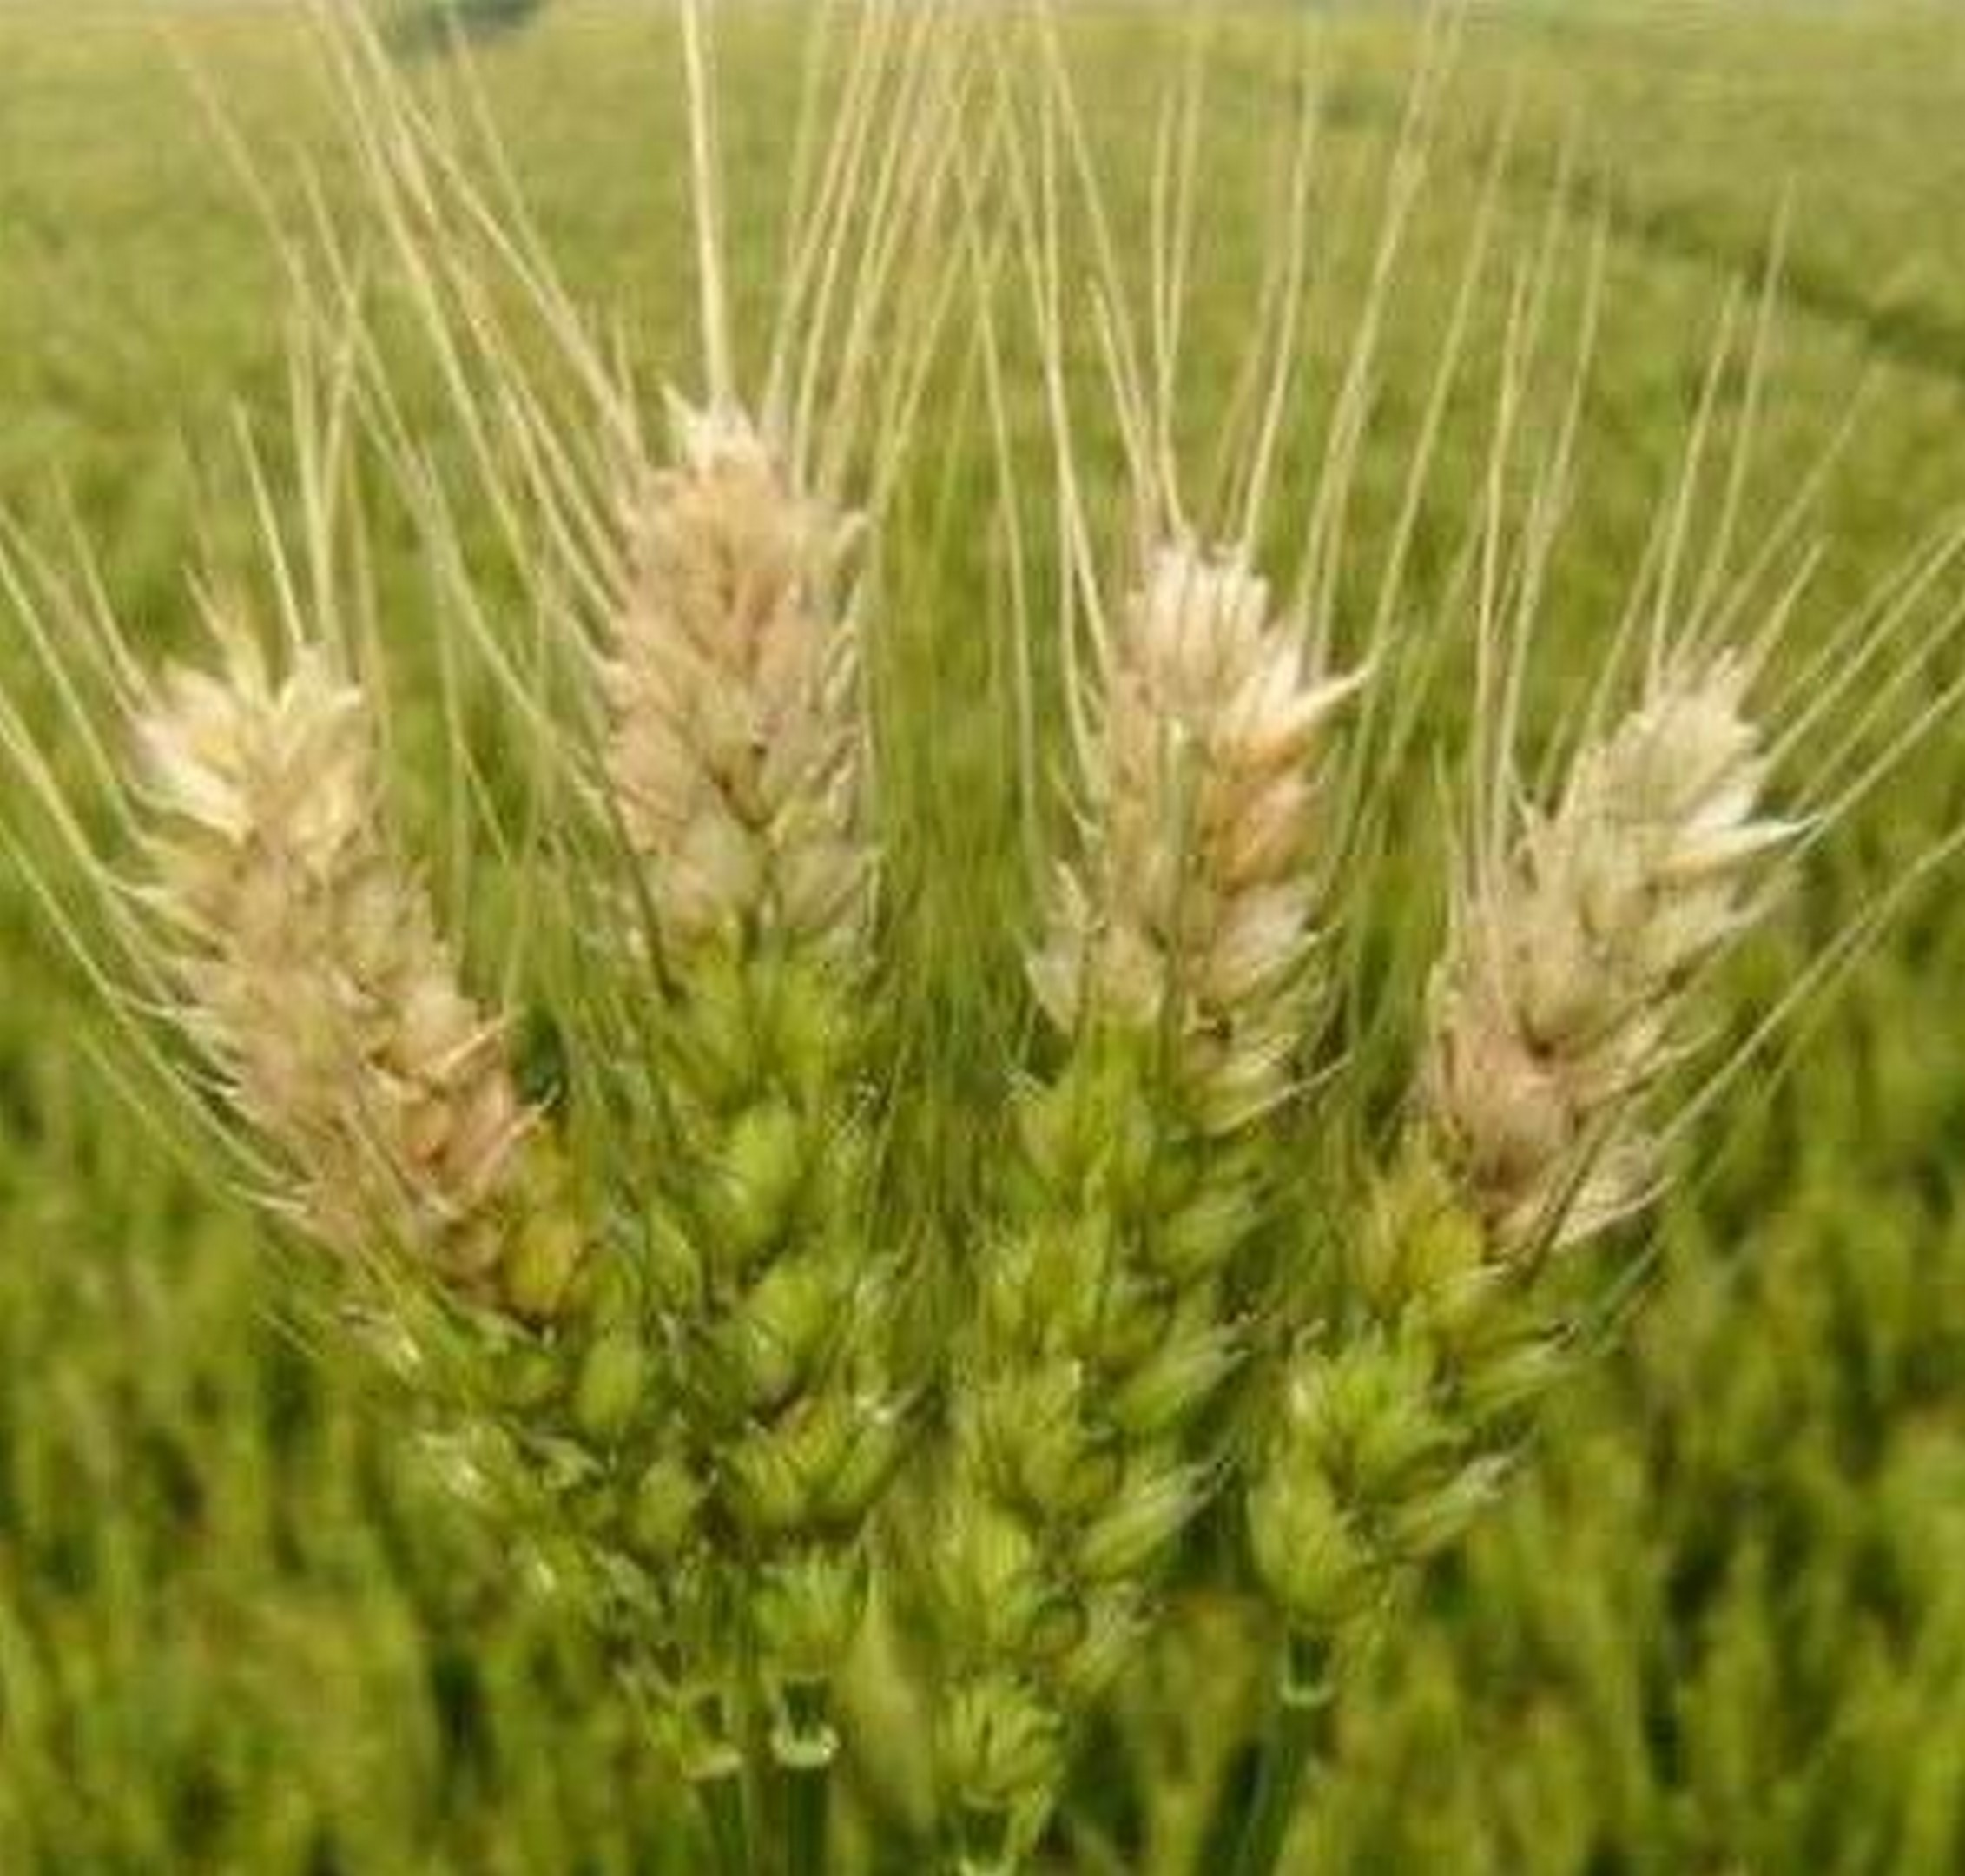Wheat scab: (933, 574, 1433, 1760), (523, 386, 932, 1629)
